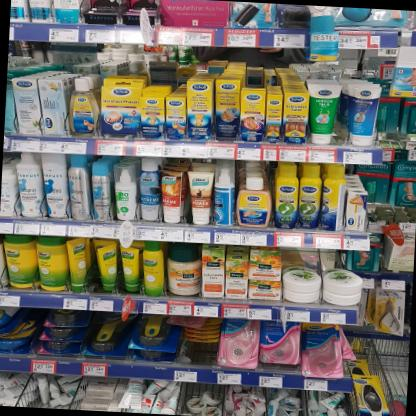empty_space: (382, 339, 410, 390), (187, 342, 217, 365), (35, 404, 63, 409)
